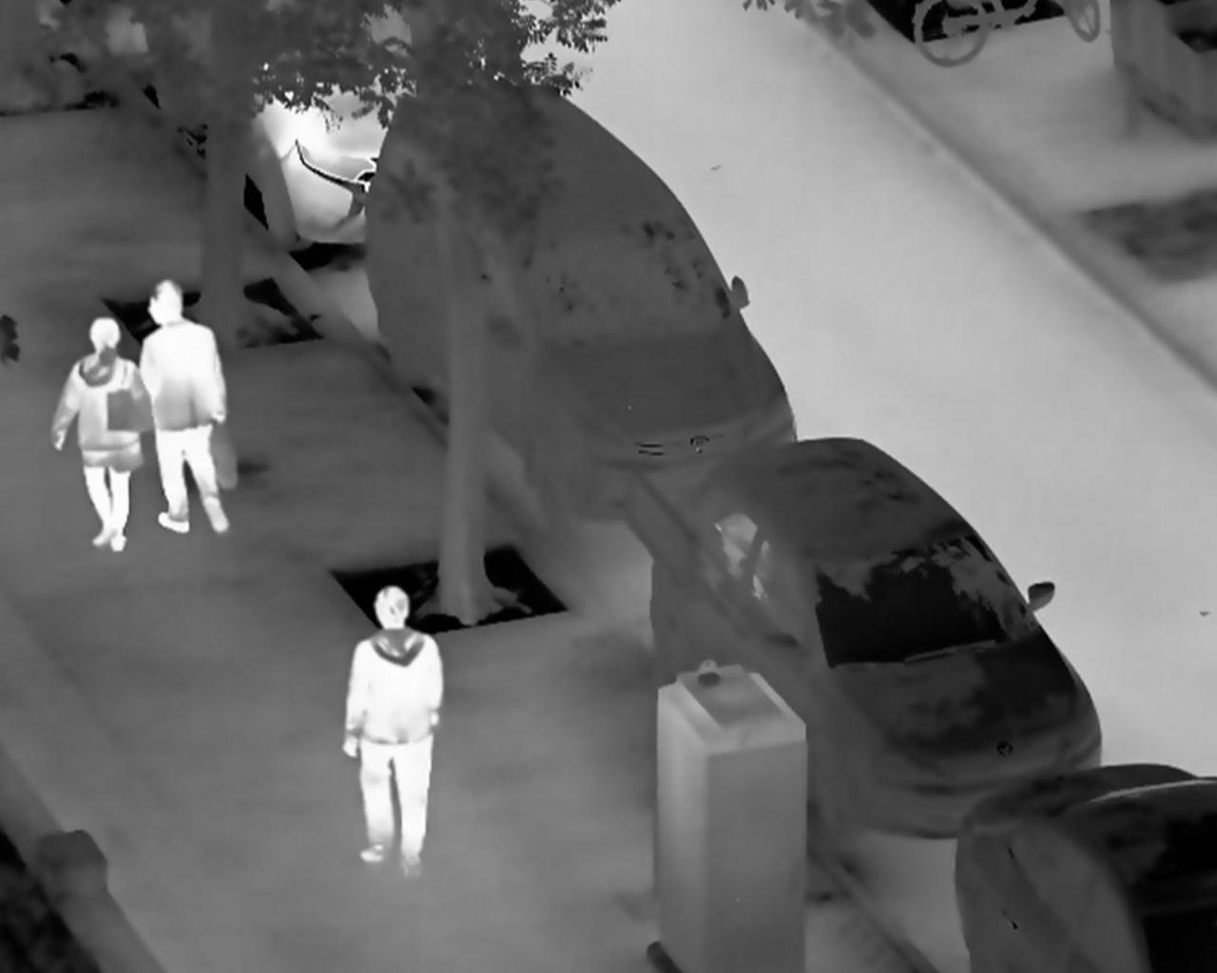person: (341, 584, 445, 880), (133, 279, 232, 538), (49, 314, 149, 556)
